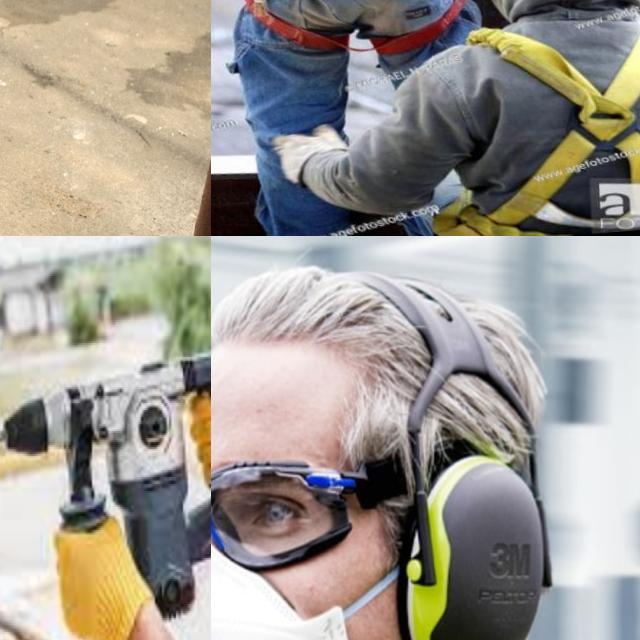Ear-protection: (414, 334, 549, 640)
Harness: (434, 29, 640, 236)
glasses: (211, 467, 371, 566)
person: (211, 282, 640, 640)
